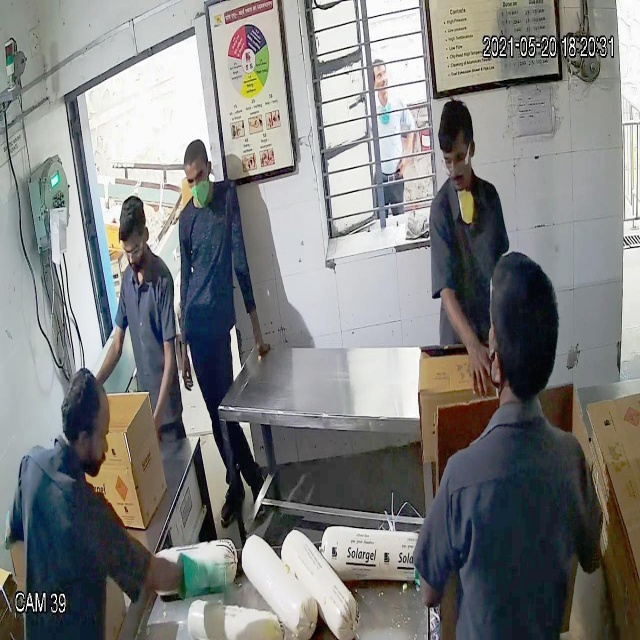Gafas: (436, 147, 477, 172), (115, 239, 150, 260)
Sin_gafas: (182, 169, 210, 188)
